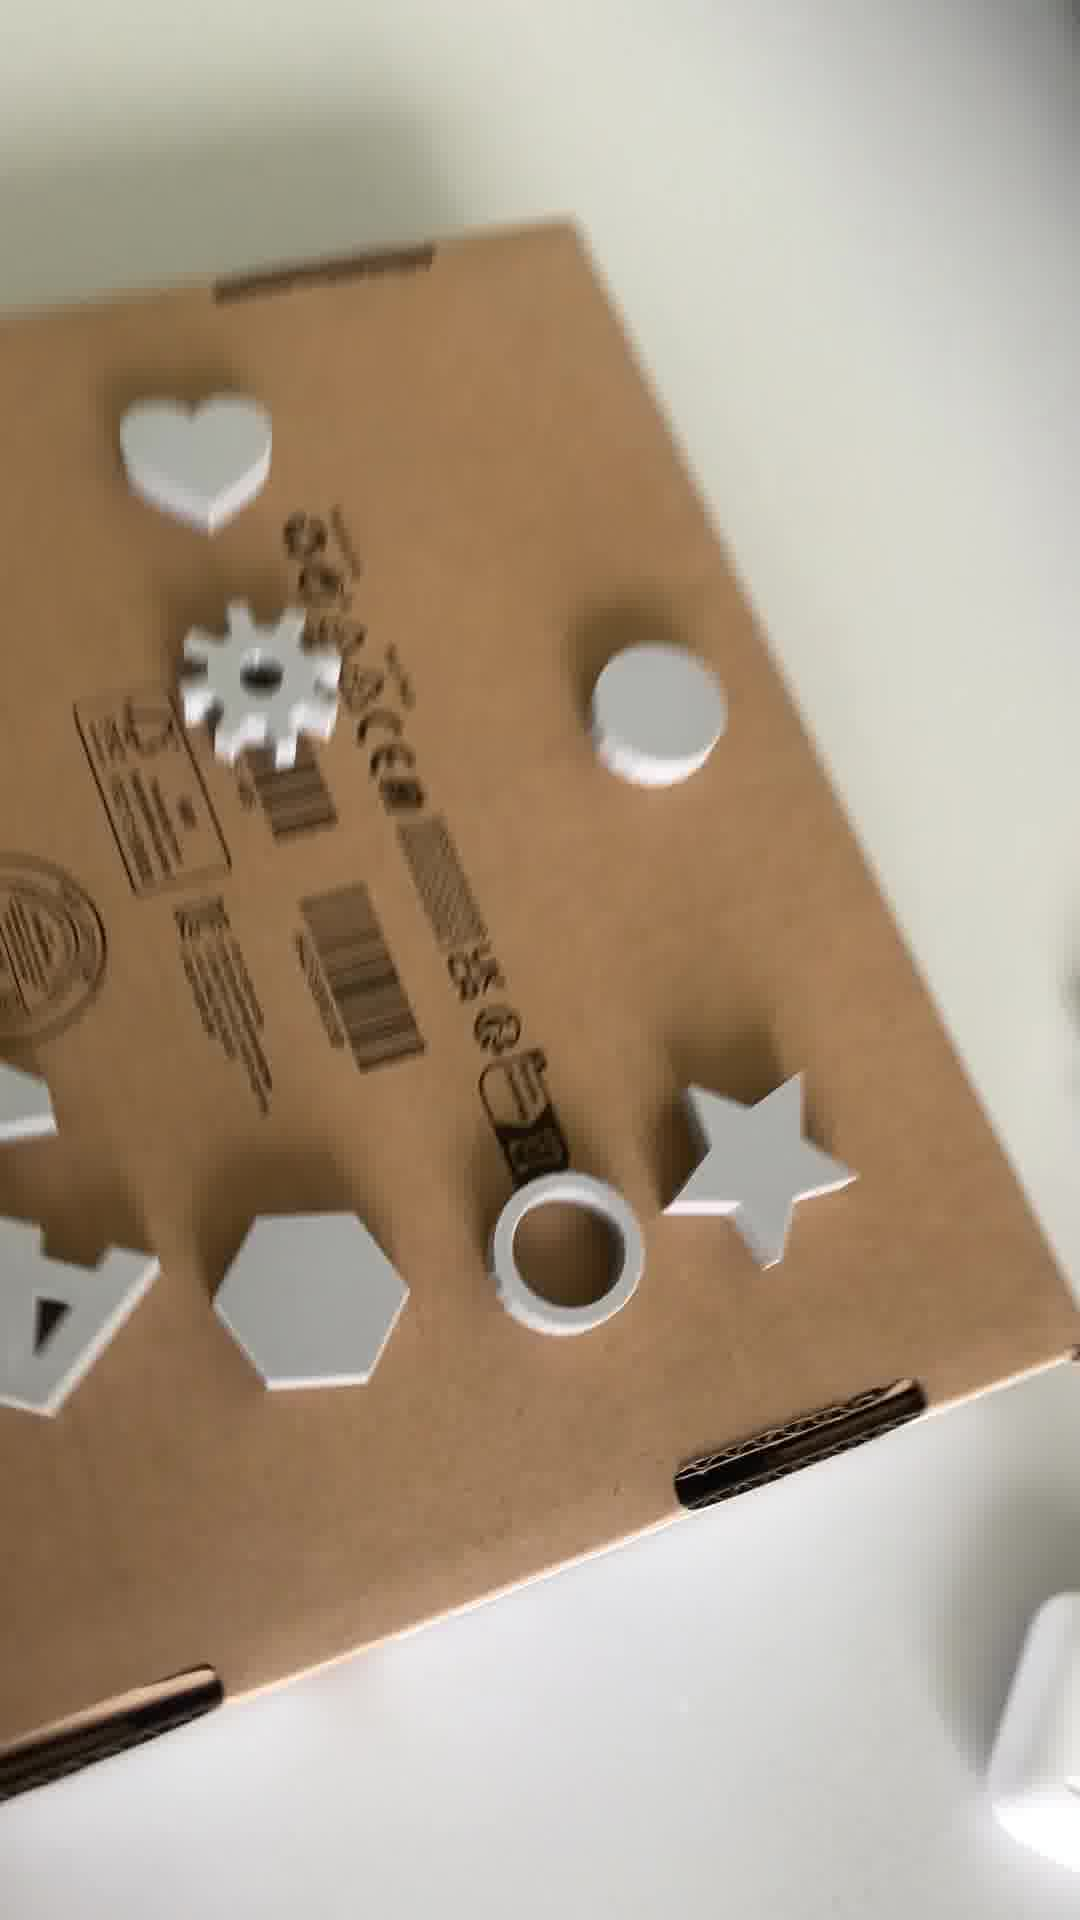Gray A-letter: (1, 1216, 156, 1416)
Gray circle: (589, 638, 738, 791)
Gray gear: (185, 599, 355, 761)
Gray heart: (119, 392, 282, 545)
Gray hexagon: (211, 1207, 404, 1403)
Gray ring: (487, 1172, 647, 1338)
Gray star: (669, 1071, 849, 1261)
